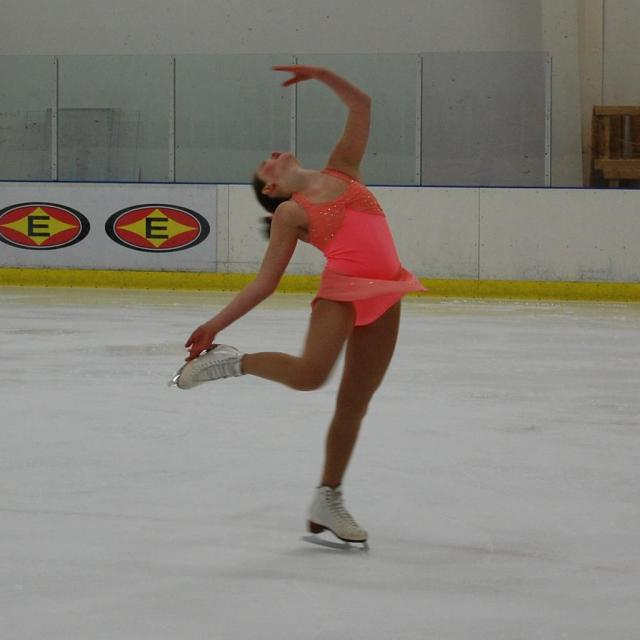nomask: (257, 150, 295, 191)
